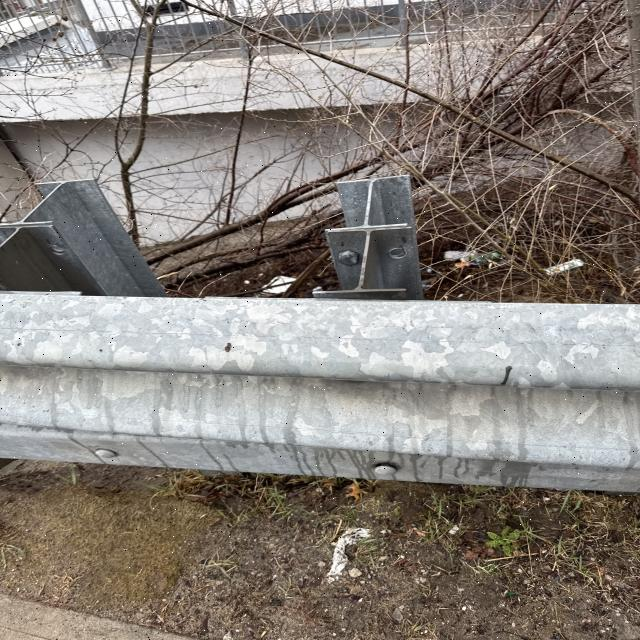Guard rail: (1, 295, 616, 483)
